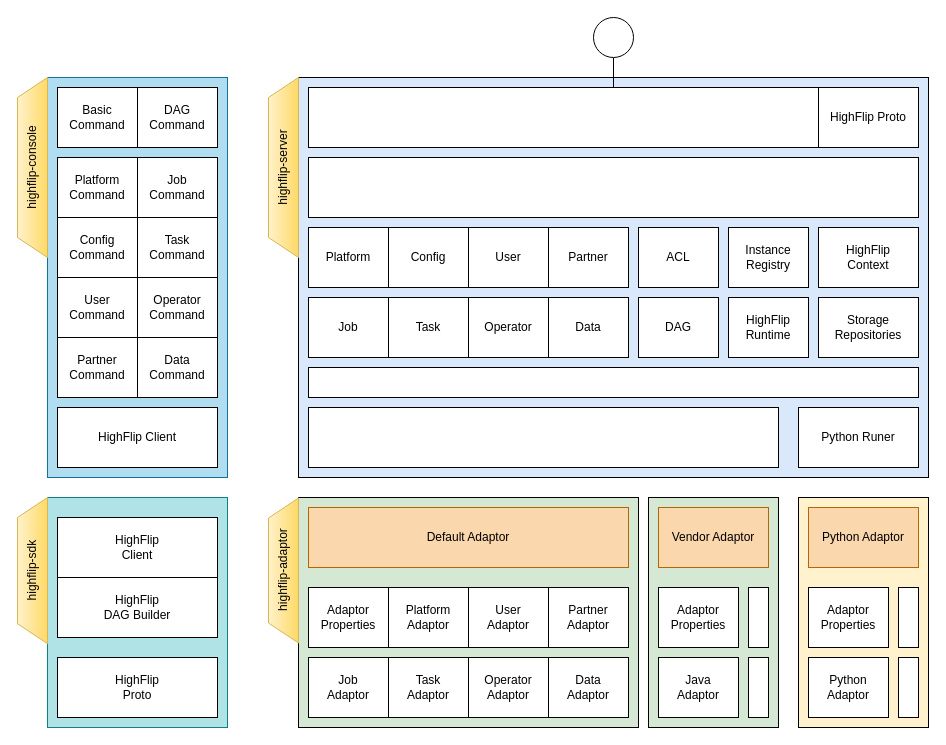
This 946x745 diagram has some shape labels left out. The box of each missing label's shape, as (x1, y1, x2, y2) in pixels:
HighFlip Adaptor: (308, 366, 918, 398)
HighFlip Engine: (308, 156, 918, 218)
HighFlip gRPC Server: (308, 86, 918, 148)
Java Adaptor Runer: (308, 406, 778, 468)
